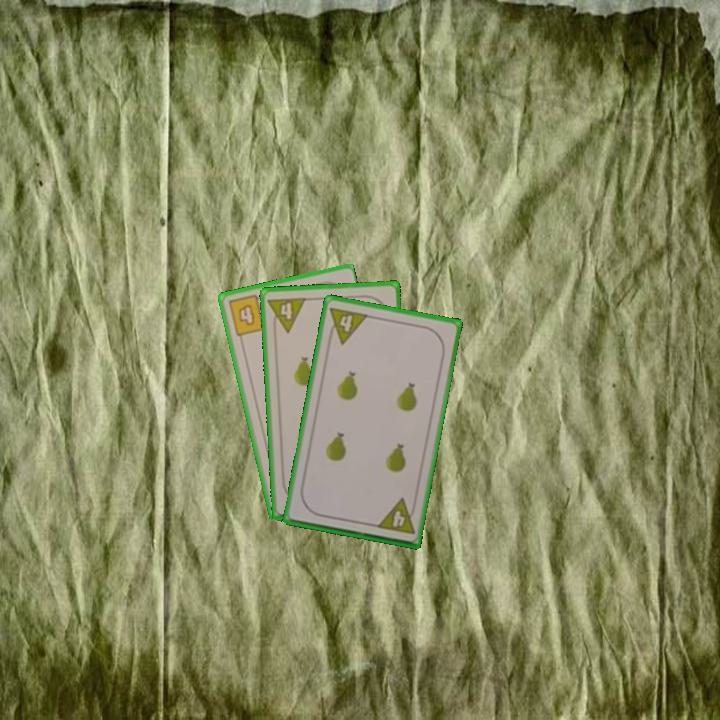4b: (225, 291, 267, 339)
4p: (324, 303, 371, 347), (373, 495, 419, 537), (264, 294, 309, 336)
